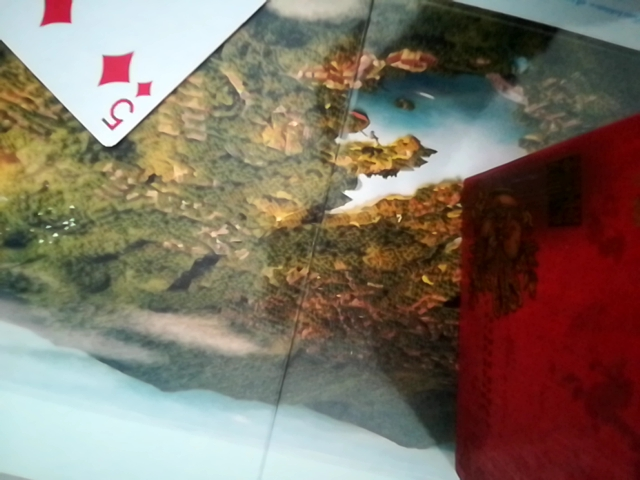fk 5: (0, 1, 337, 153)
